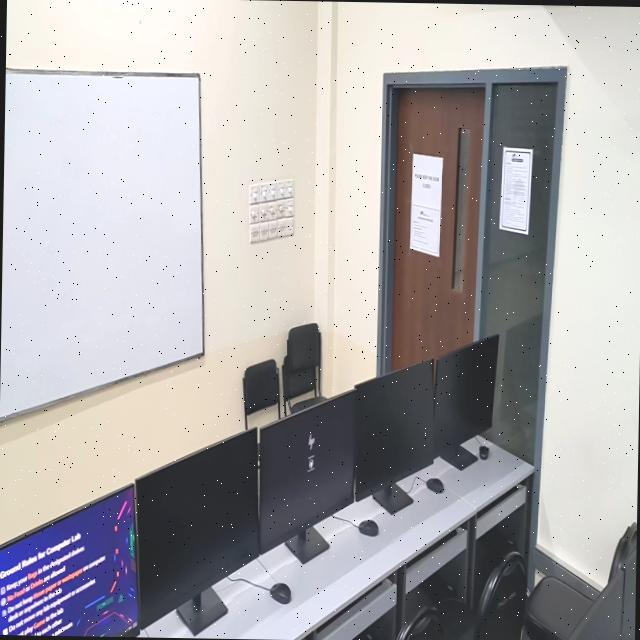Chair: (471, 550, 526, 640), (523, 575, 593, 640), (280, 321, 320, 410), (241, 357, 279, 427), (394, 606, 443, 640), (608, 521, 637, 578)
Monitor: (133, 427, 258, 628), (0, 484, 137, 636), (258, 391, 354, 552), (351, 359, 436, 504), (433, 333, 497, 456), (565, 569, 622, 640)
Mouse: (268, 581, 290, 603), (356, 518, 377, 534), (424, 477, 442, 491), (477, 444, 488, 458)
